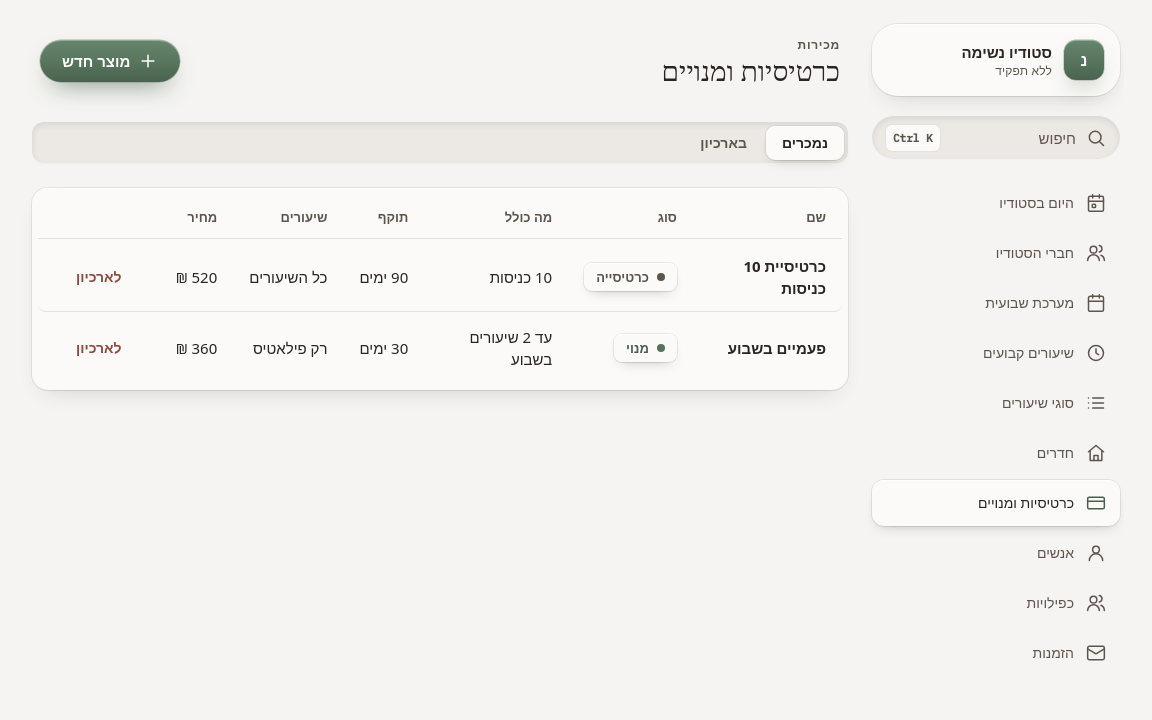
Test: pass products › adds a punch card with its price in agorot
Click the button "מוצר חדש": {"x": 110, "y": 61} 40,40 -> 180,82
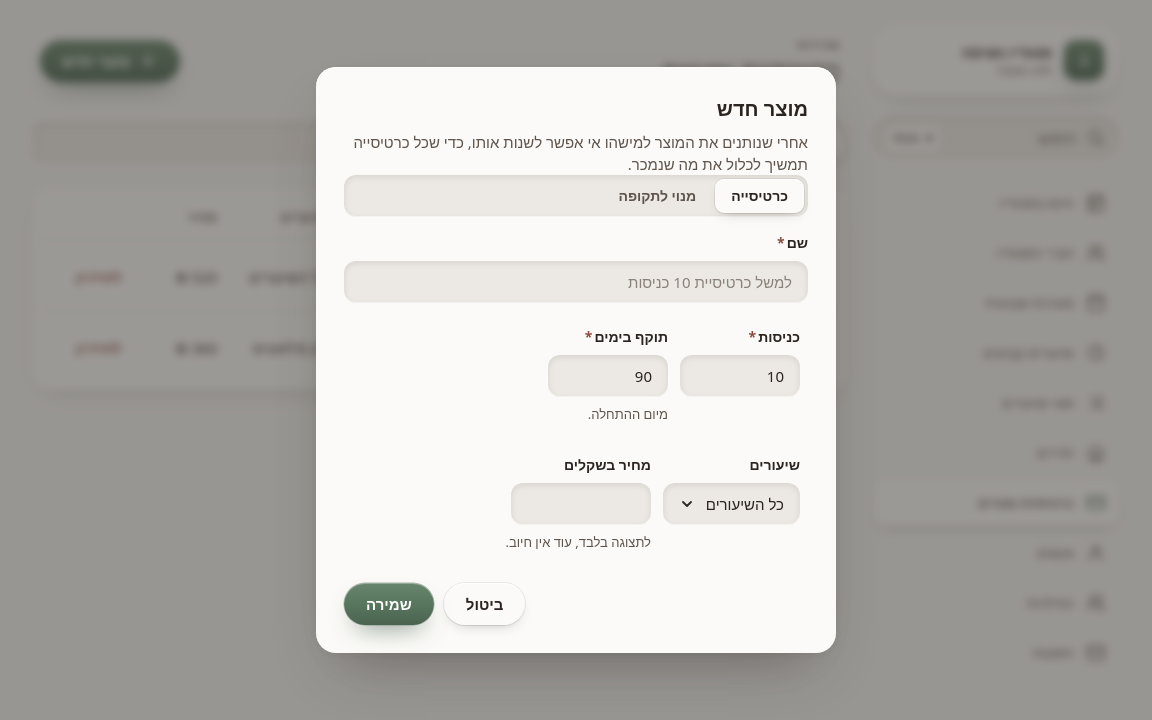
In the field labelled "שם*": {"x": 576, "y": 282} 344,261 -> 808,303, type "כרטיסיית 5"
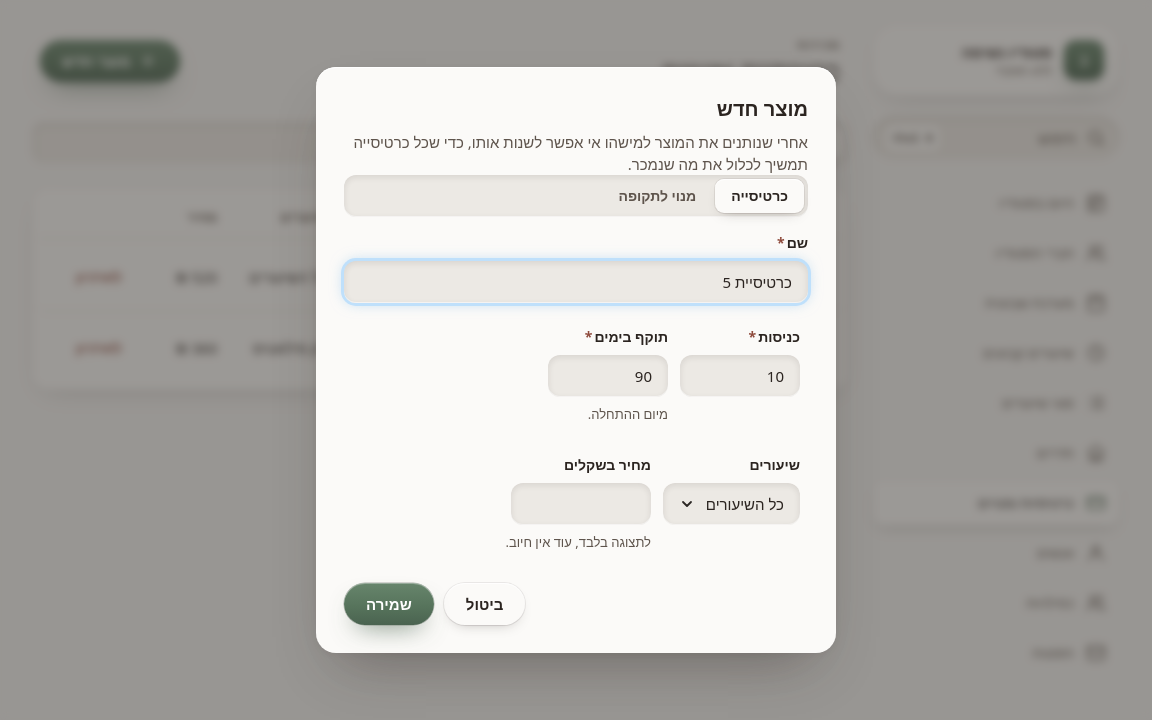
Replace the text in the field labelled "כניסות*" with "5": {"x": 740, "y": 376} 680,355 -> 800,397
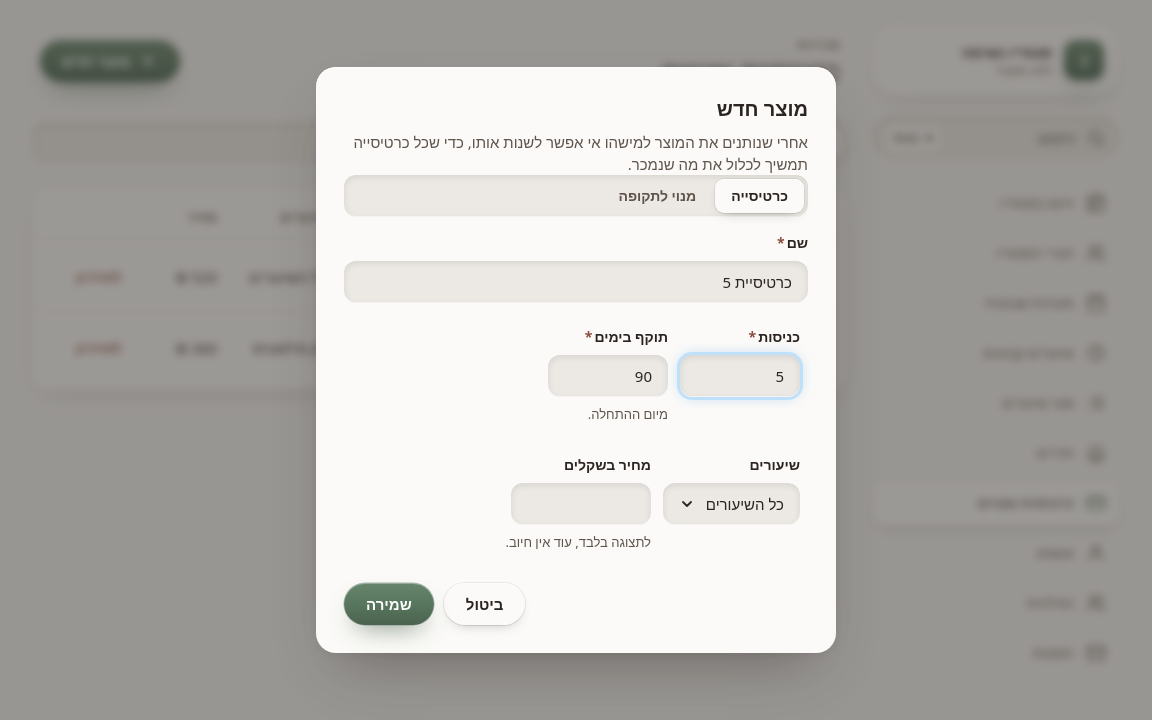
In the field labelled "מחיר בשקלים": {"x": 581, "y": 504} 511,483 -> 651,525, type "99.9"
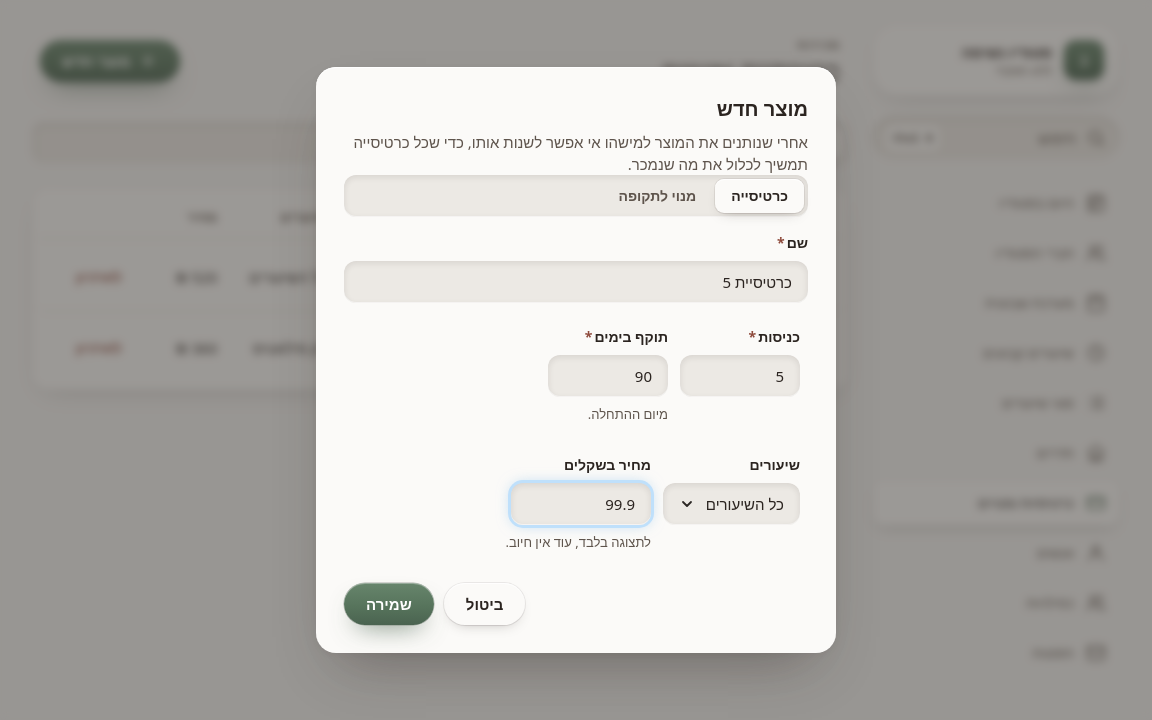
Click the button "שמירה": {"x": 389, "y": 604} 344,583 -> 434,625
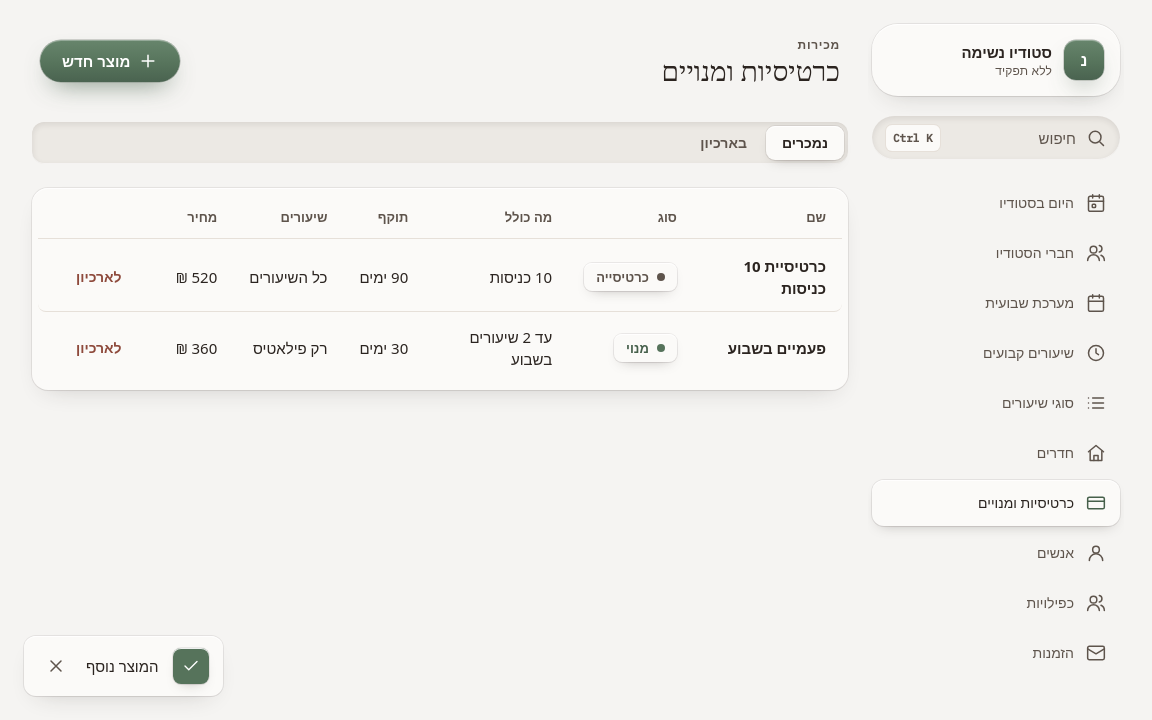
Check: the text "המוצר נוסף" is shown, box 86,655 -> 159,677
